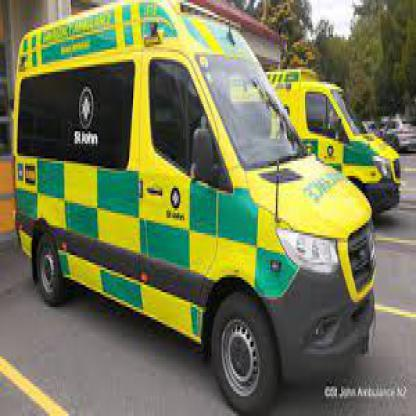Ambulance - v1 Ambulance last generate: (6, 3, 390, 394), (265, 45, 407, 226)
